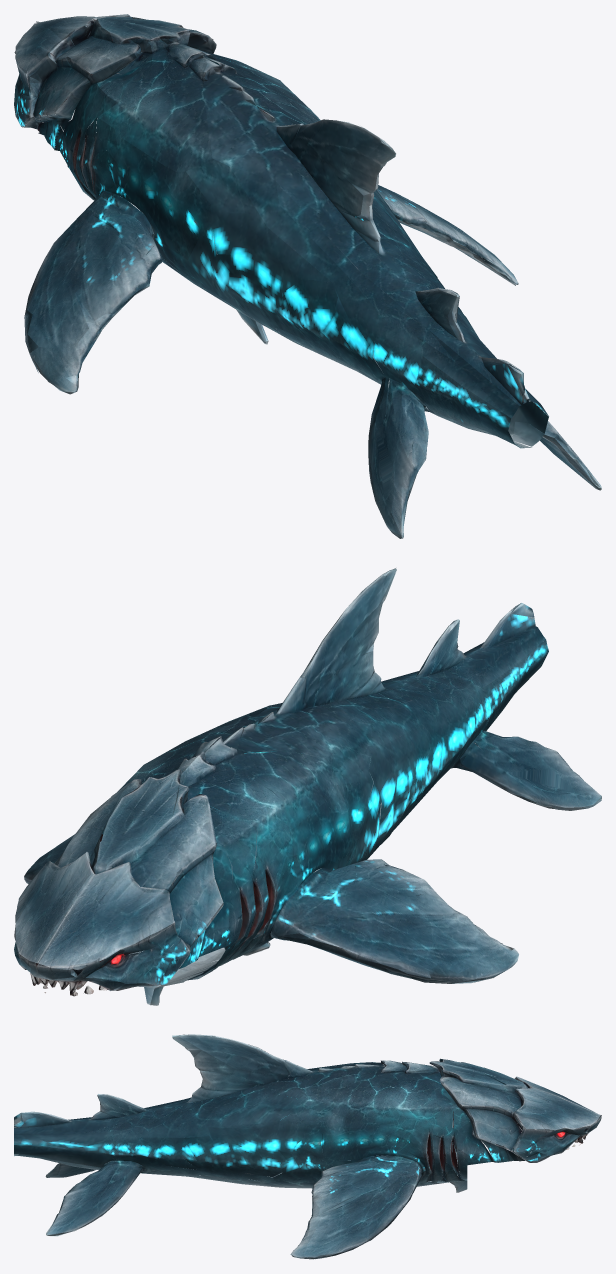
Rendered from serpohvost-telo.glb.
3 renders of one model, top to bottom at view 1: azimuth 30°, elevation 25°; view 2: azimuth 150°, elevation 25°; view 3: azimuth 270°, elevation 25°, orthographic. The views are drawn at different scales.
Parts seen in each view (by area): view 1: serpohvost-telo; view 2: serpohvost-telo; view 3: serpohvost-telo.
Part boxes in pixels (x1,y1,x2,y2): serpohvost-telo: [14, 14, 601, 538]; serpohvost-telo: [14, 568, 601, 1005]; serpohvost-telo: [14, 1034, 601, 1259].
Size of the model in its own units: 2 by 1.21 by 3.72.
1 material, 1 textured.
